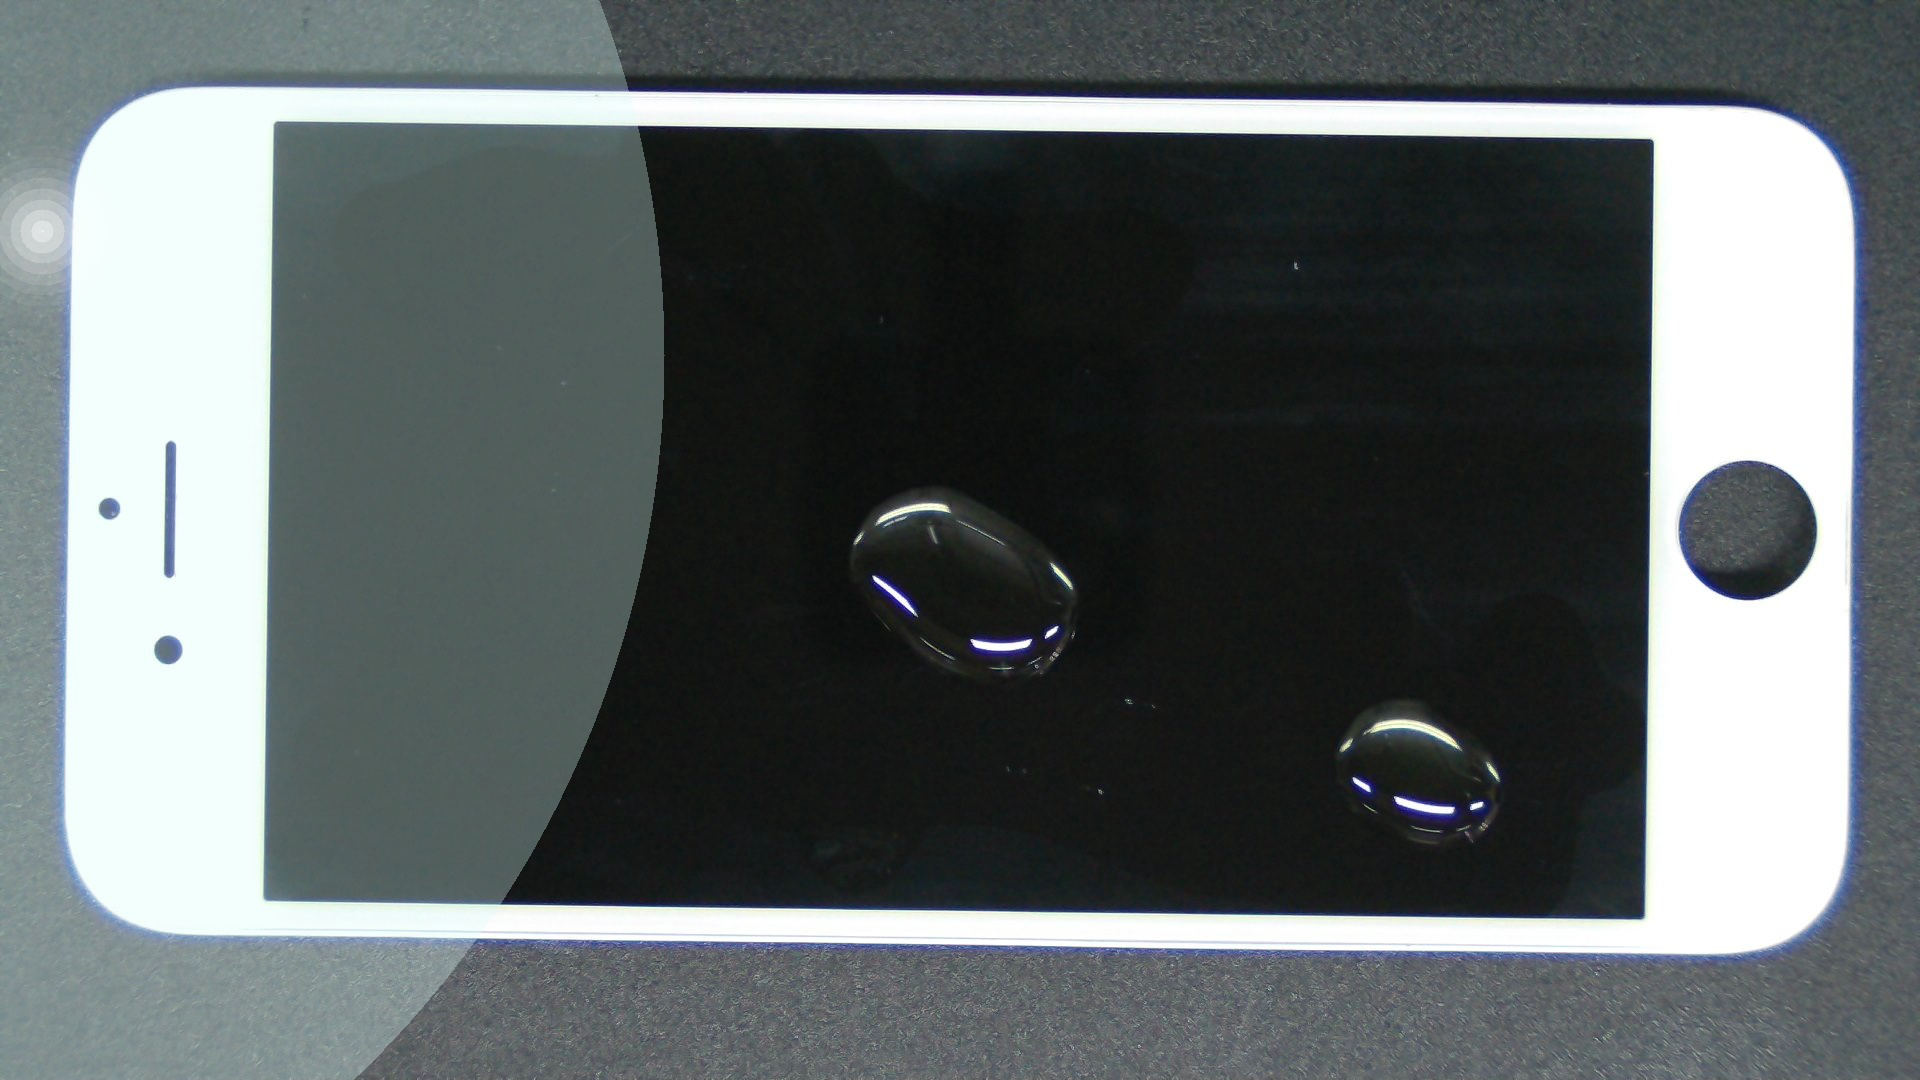oil: (699, 349, 1920, 1048), (465, 243, 1394, 729)
